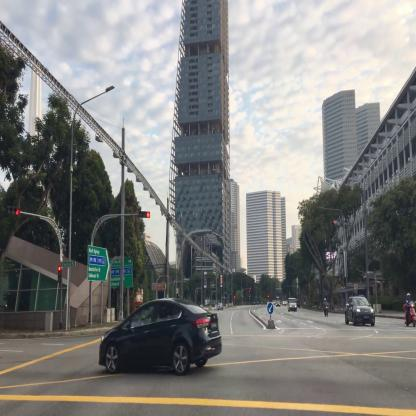red_traffic_light: (139, 211, 150, 218)
